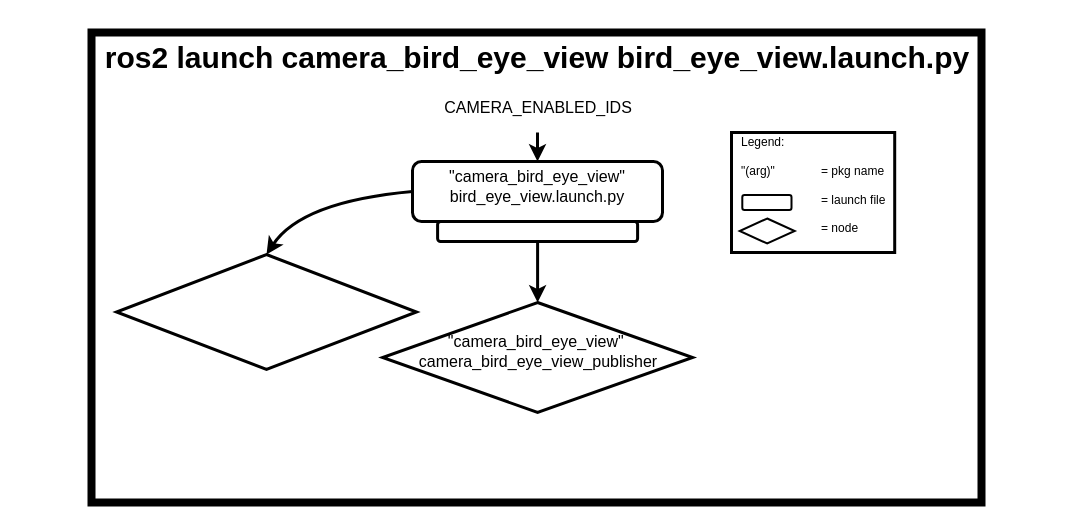
Some shapes in this 1076 by 524 pixel diagram are drawn without their labels. Each missing label, with the box of its shape:
"camera_bird_eye_view" camera_bird_eye_view_stitcher: (114, 252, 418, 370)
for each camera_id in camera_ids: (436, 220, 639, 242)
